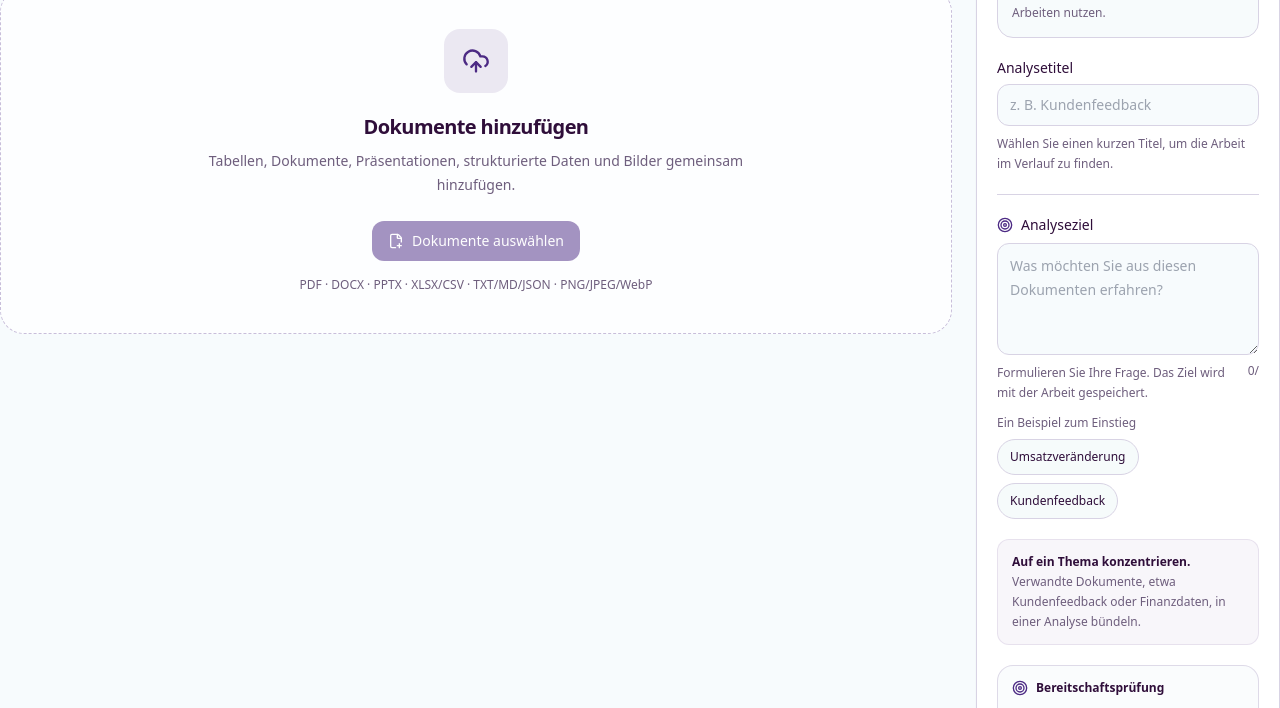
it: NewAnalysisPage › de: örnek hedefi seçili dilde ekler; tekrar seçim ve dil değişiminden sonra özgün metni geri alır
The width and height of the screenshot is (1280, 708).
(page scrolled)
Type "Özgün müşteri sorum" into the text box labelled "Analyseziel" at point(1128, 299), box x1=997 y1=243 x2=1259 y2=355
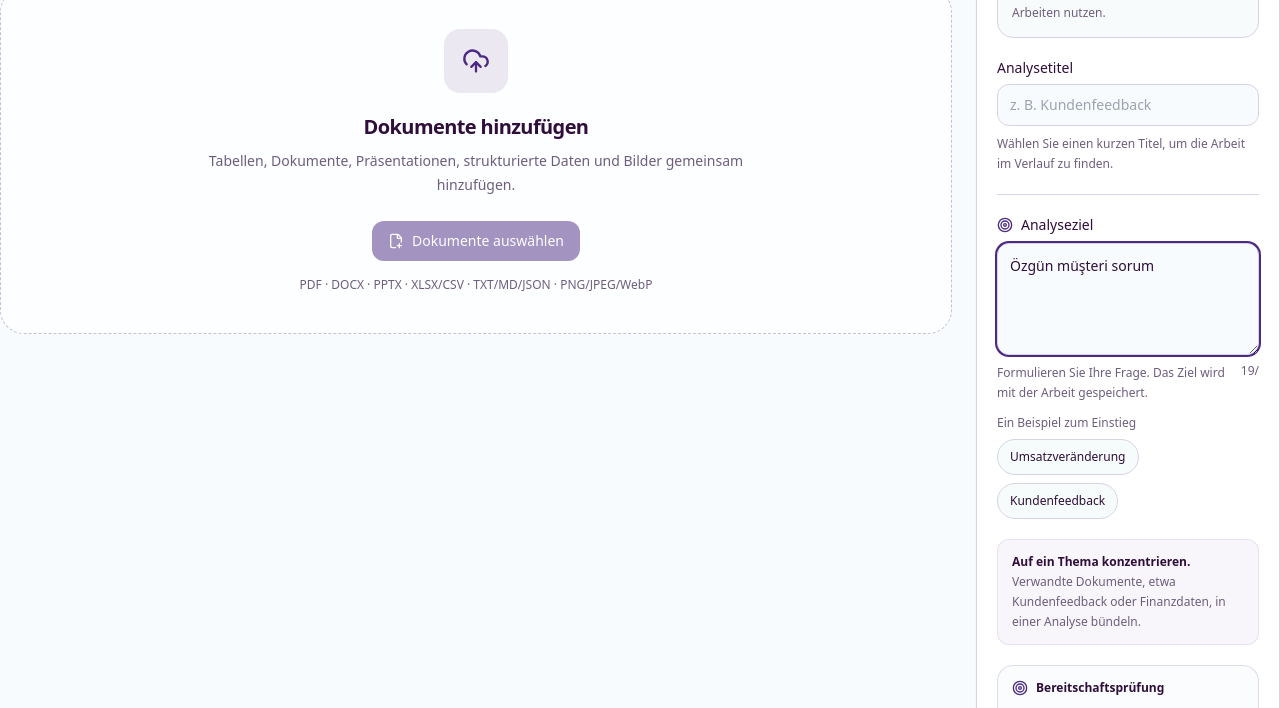
Click the button "Umsatzveränderung" at point(1068, 457), box x1=997 y1=439 x2=1138 y2=475
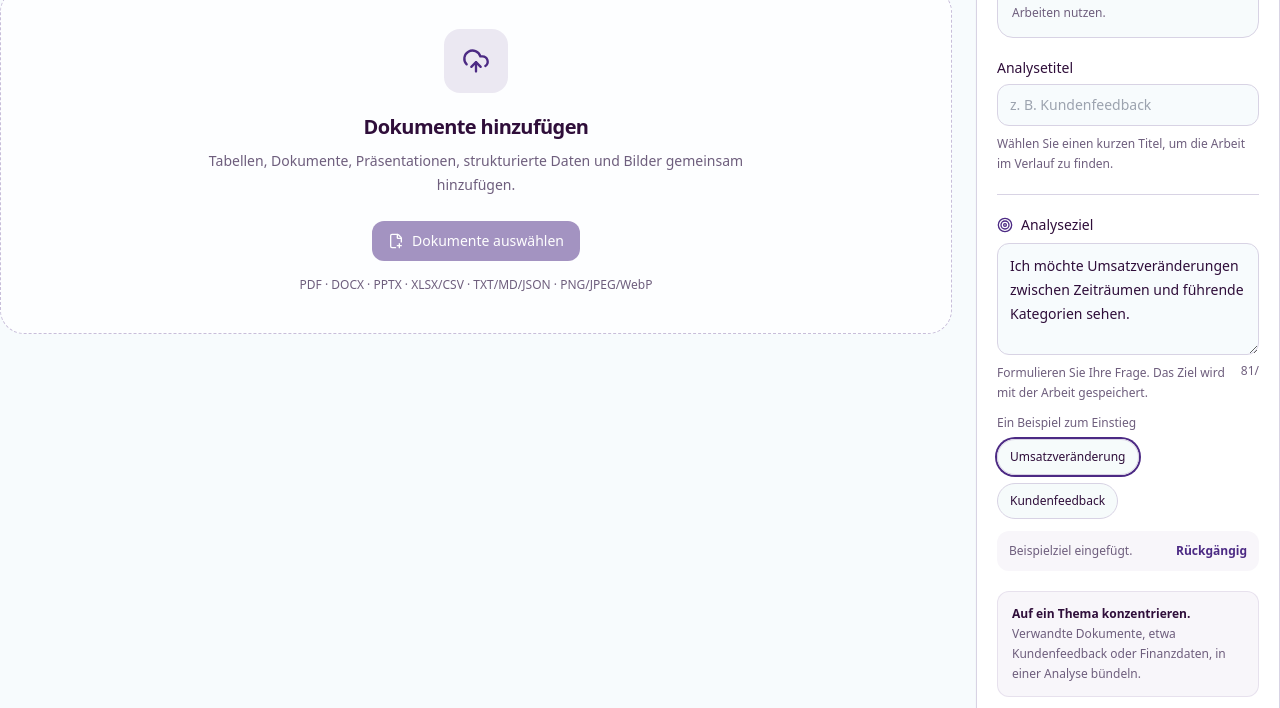
Result: the text box labelled "Analyseziel" holds "Ich möchte Umsatzveränderungen zwischen Zeiträumen und führende Kategorien sehen." at x1=997 y1=243 x2=1259 y2=355
Click the button "Kundenfeedback" at point(1058, 501), box x1=997 y1=483 x2=1118 y2=519
(page scrolled)
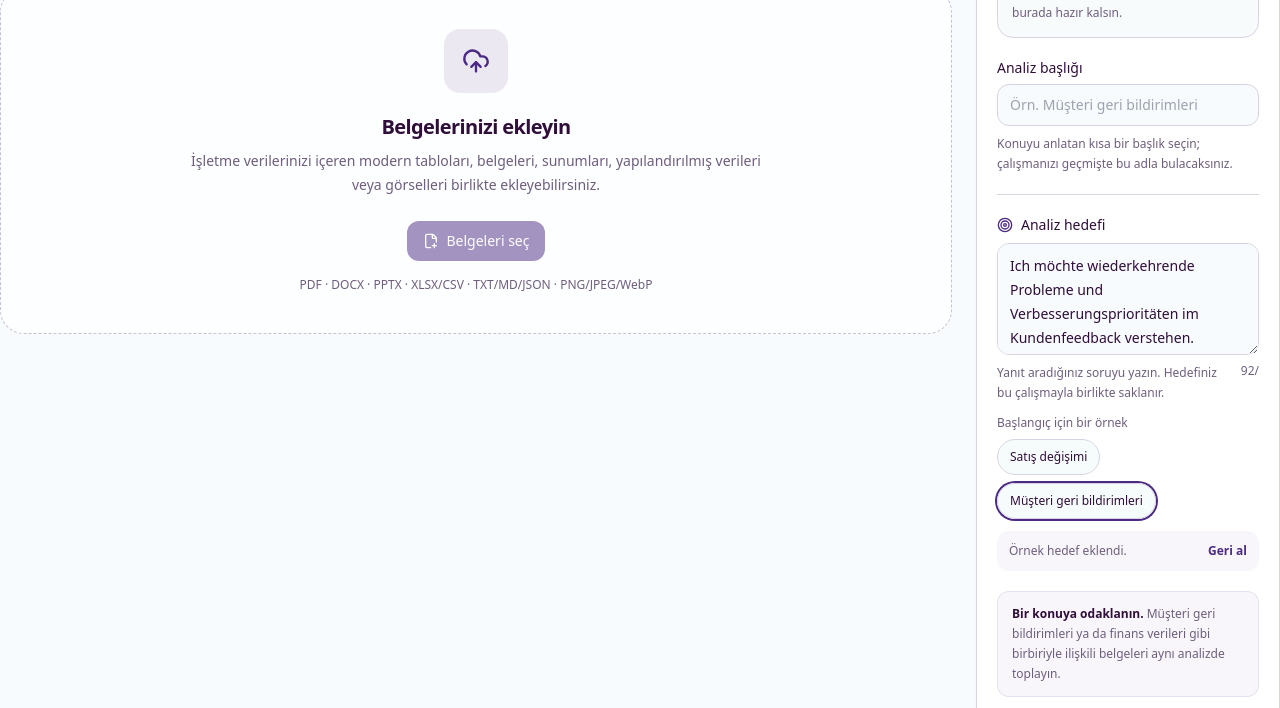
Result: the text box named "Analyseziel" holds "Ich möchte wiederkehrende Probleme und Verbesserungsprioritäten im Kundenfeedback verstehen." at x1=997 y1=243 x2=1259 y2=355
Click the button "Geri al" at point(1228, 551), box x1=1200 y1=531 x2=1255 y2=571
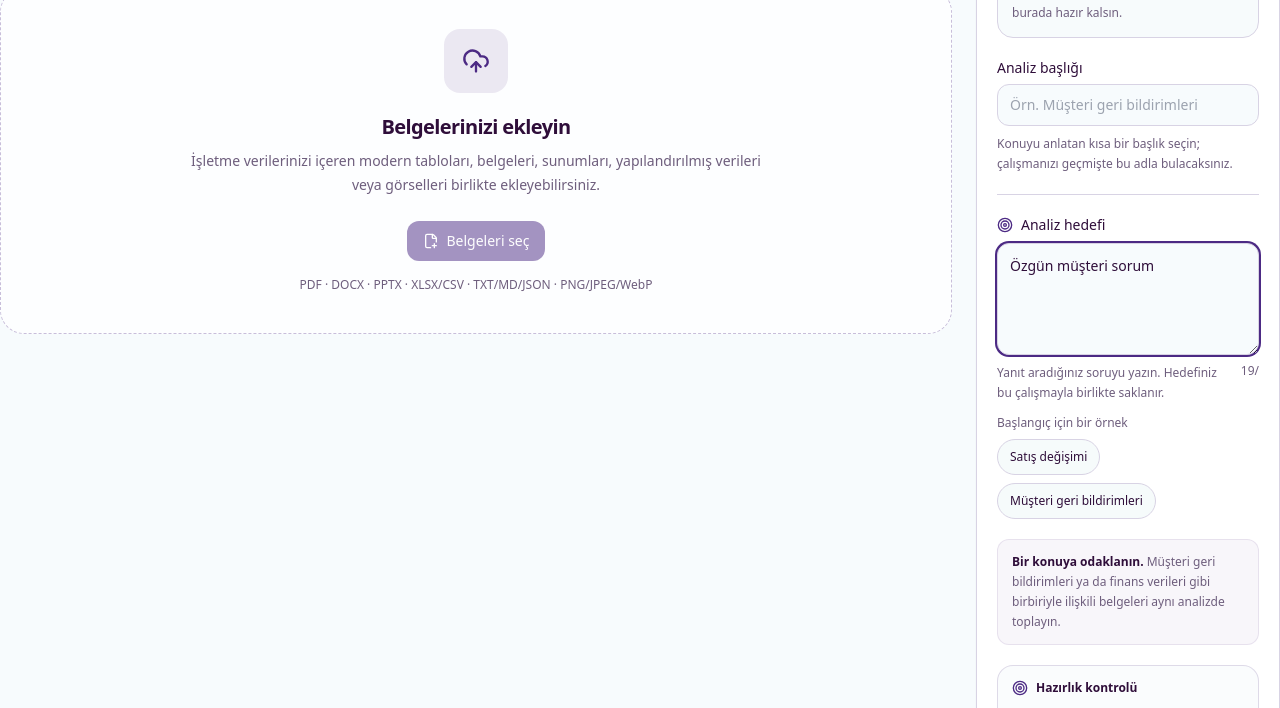
Result: the button "Geri al" is gone
